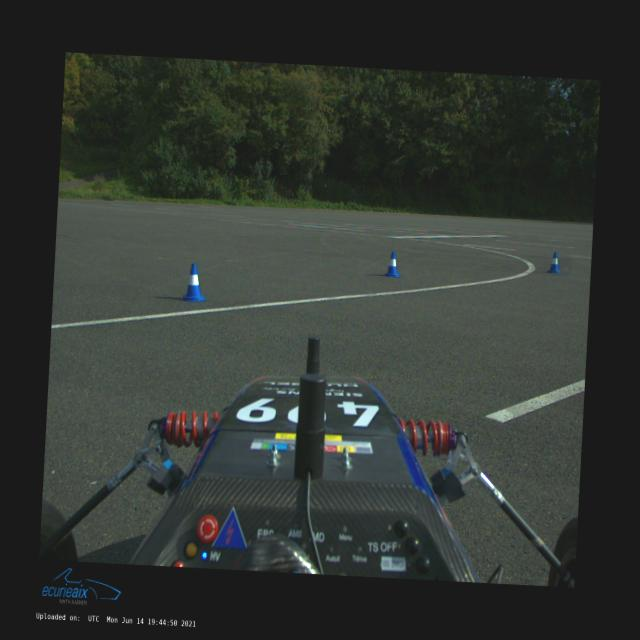blue_cone: (180, 263, 210, 303), (383, 250, 402, 278), (546, 252, 564, 274)
